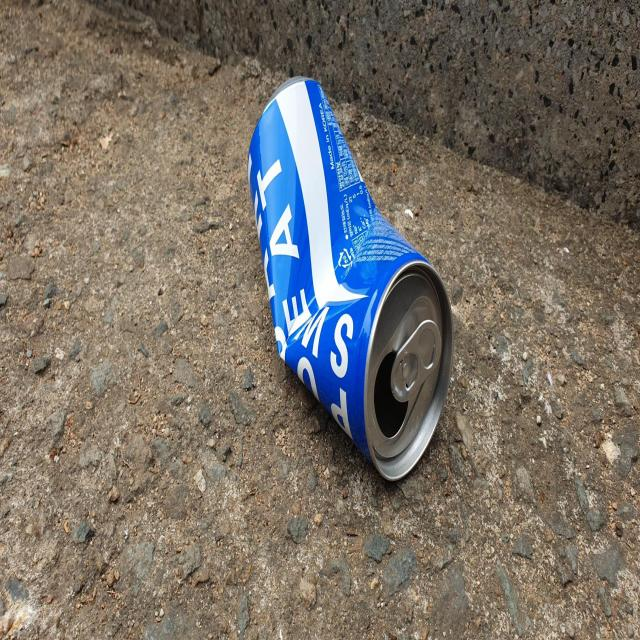can: (248, 76, 454, 480)
